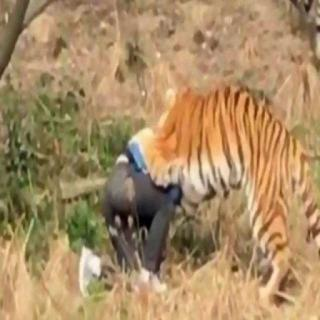Tiger: (136, 80, 320, 300)
